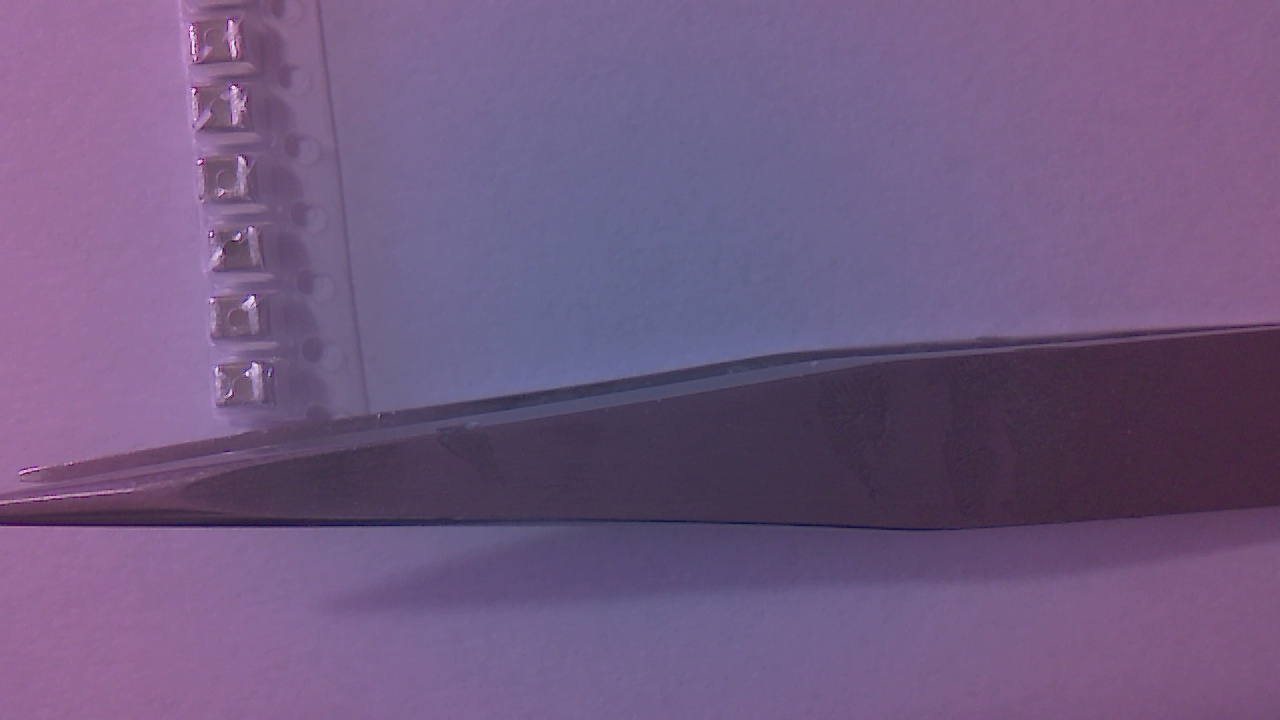Condensator: (197, 87, 261, 136), (191, 21, 253, 69), (211, 230, 274, 275), (213, 297, 271, 344), (200, 162, 260, 206), (222, 369, 272, 414)
